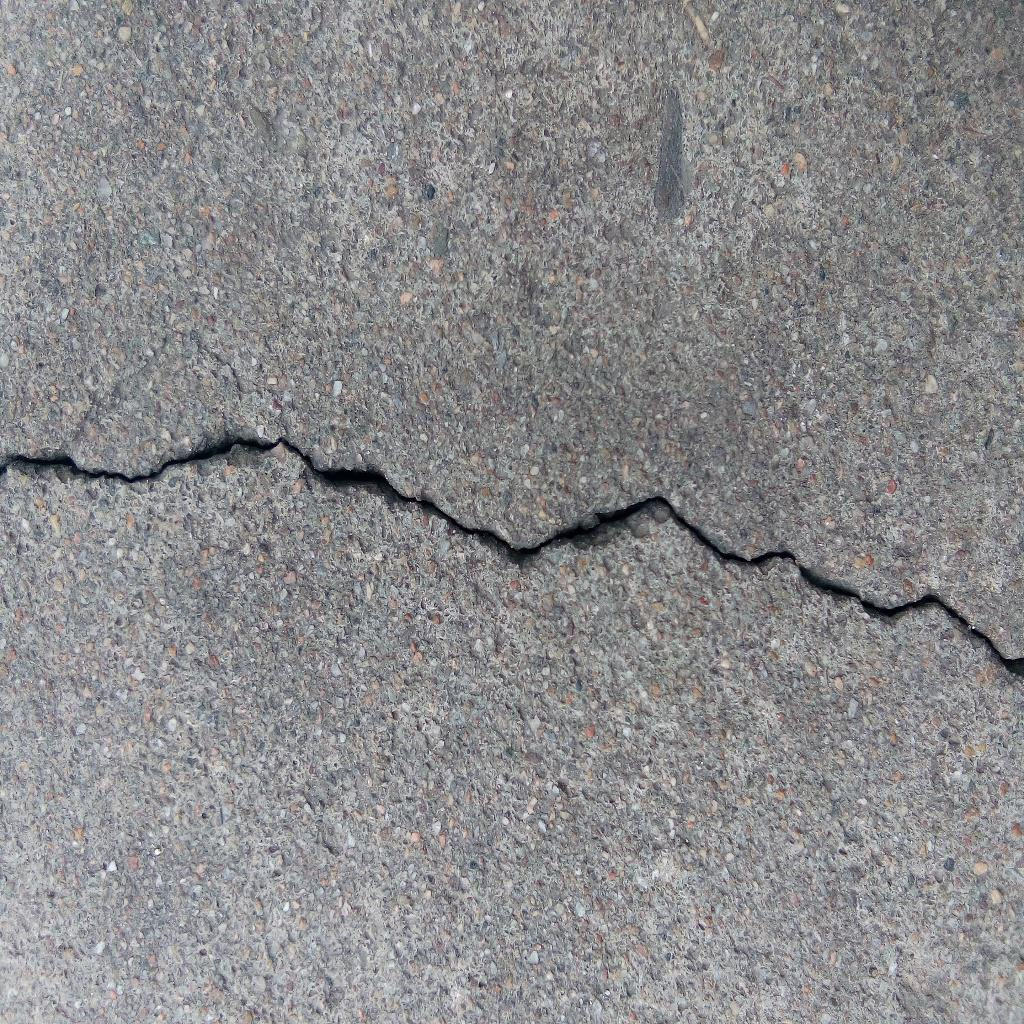Crack: (1, 433, 1024, 678)
